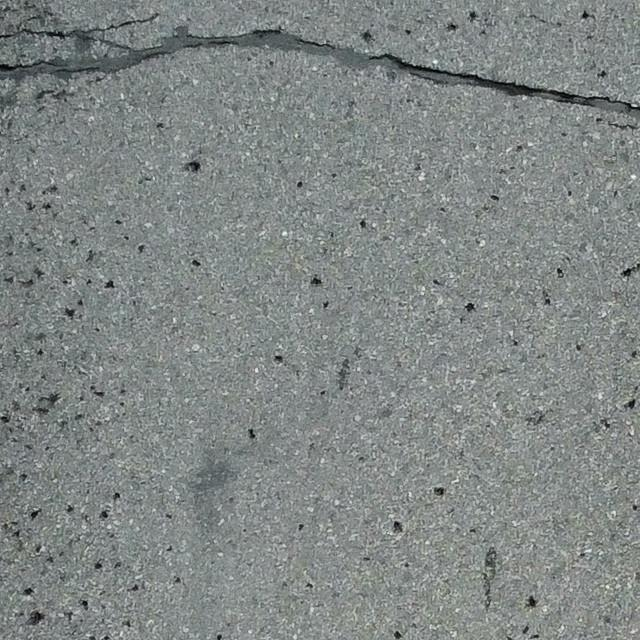TransverseCrack: (1, 22, 640, 115)
